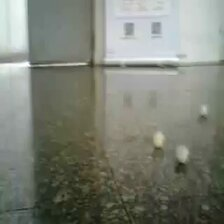tennis: (188, 170, 224, 220), (123, 93, 144, 120), (59, 71, 75, 92), (168, 68, 181, 87)
